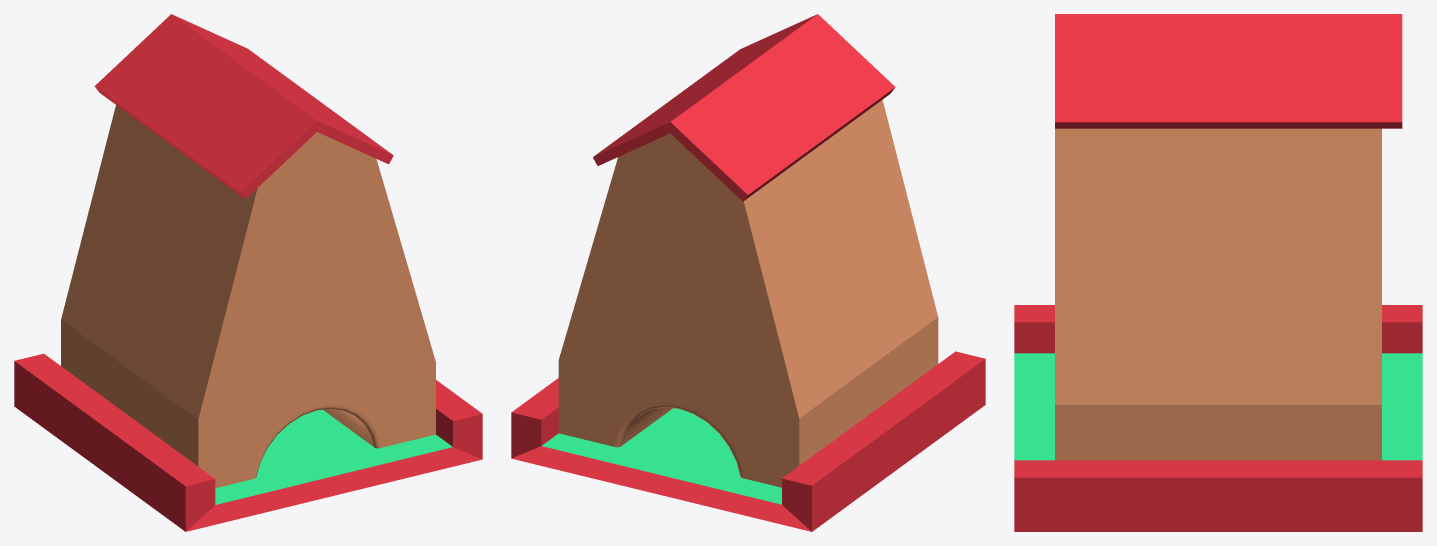
Rendered from windmill.fbx.
The picture shows the model from 3 angles, left to right: view 1: azimuth 30°, elevation 25°; view 2: azimuth 150°, elevation 25°; view 3: azimuth 270°, elevation 25°; orthographic projection. The views are drawn at different scales.
Parts seen in each view (by area): view 1: windmill; view 2: windmill; view 3: windmill.
Boxes of the visible parts, box(x1,y1,x2,y2) form: windmill: box(14, 14, 482, 531); windmill: box(511, 14, 985, 531); windmill: box(1014, 14, 1422, 531).
Size of the model in its own units: 99.99 by 99.99 by 117.
